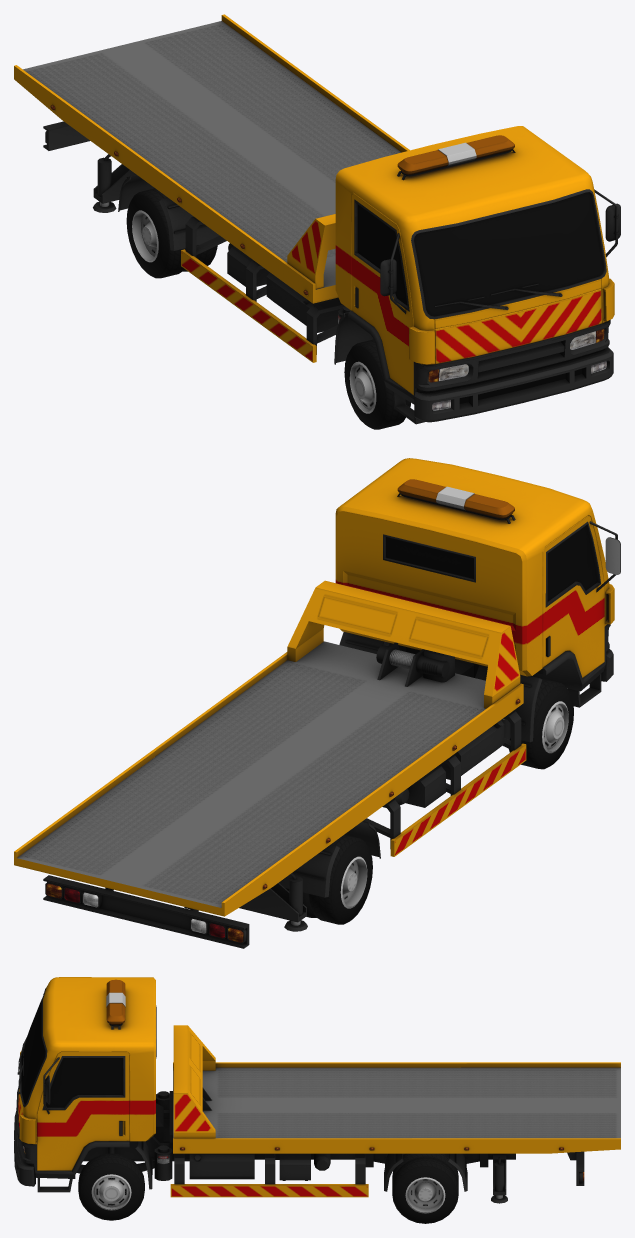
File: Tow_Truck.fbx
3 renders of one model, top to bottom at view 1: azimuth 30°, elevation 25°; view 2: azimuth 150°, elevation 25°; view 3: azimuth 270°, elevation 25°, orthographic. The views are drawn at different scales.
Visible parts, largest first — view 1: Tow_Truck; view 2: Tow_Truck; view 3: Tow_Truck.
Boxes of the visible parts, box(x1,y1,x2,y2) form: Tow_Truck: box(14, 14, 620, 429); Tow_Truck: box(14, 458, 620, 948); Tow_Truck: box(14, 977, 620, 1223).
Bounding box in the file's own units: 248 × 250 × 726.
